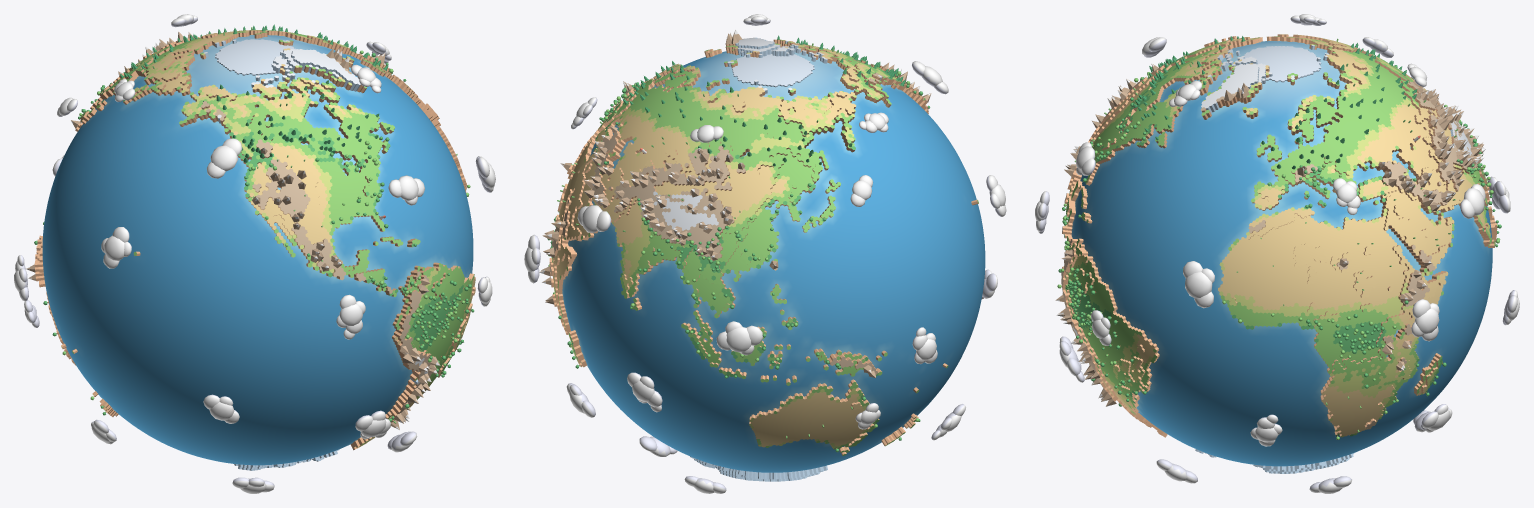
File: earth.glb
3 renders of one model, left to right at view 1: azimuth 30°, elevation 25°; view 2: azimuth 150°, elevation 25°; view 3: azimuth 270°, elevation 25°, orthographic.
Visible parts, largest first — view 1: Ocean, Land, Clouds, Decor; view 2: Ocean, Land, Clouds, Decor; view 3: Land, Ocean, Decor, Clouds.
Part boxes in pixels (<box>): Ocean: <box>42,35,473,465</box>; Land: <box>34,30,475,470</box>; Clouds: <box>14,14,495,493</box>; Decor: <box>26,24,474,429</box>; Ocean: <box>562,51,985,472</box>; Land: <box>549,37,978,481</box>; Clouds: <box>524,14,1006,493</box>; Decor: <box>539,29,931,452</box>; Land: <box>1061,34,1497,473</box>; Ocean: <box>1067,41,1492,466</box>; Decor: <box>1055,36,1501,439</box>; Clouds: <box>1035,14,1519,493</box>.
Size of the model in its own units: 2.17 by 2.07 by 2.28.
